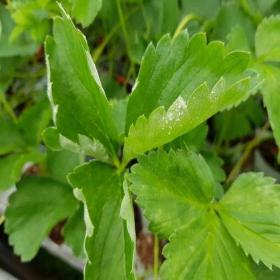Powdery Mildew Leaf: (121, 28, 266, 167), (40, 0, 120, 165), (65, 158, 136, 279)
